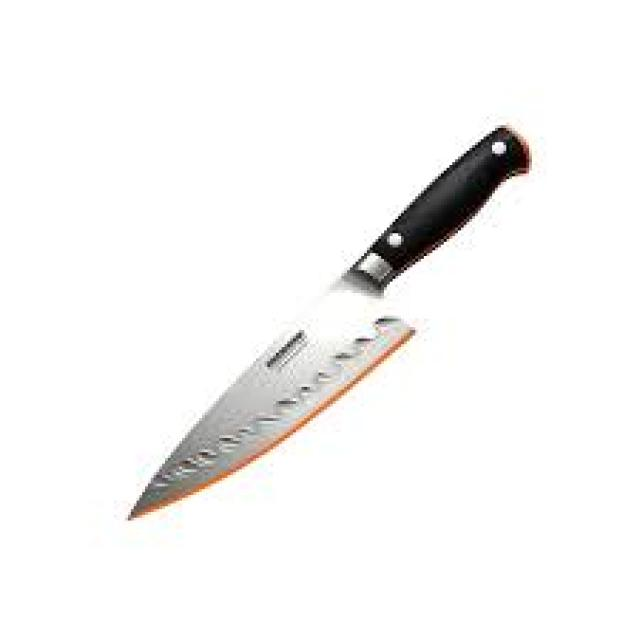Knife: (128, 125, 529, 521)
